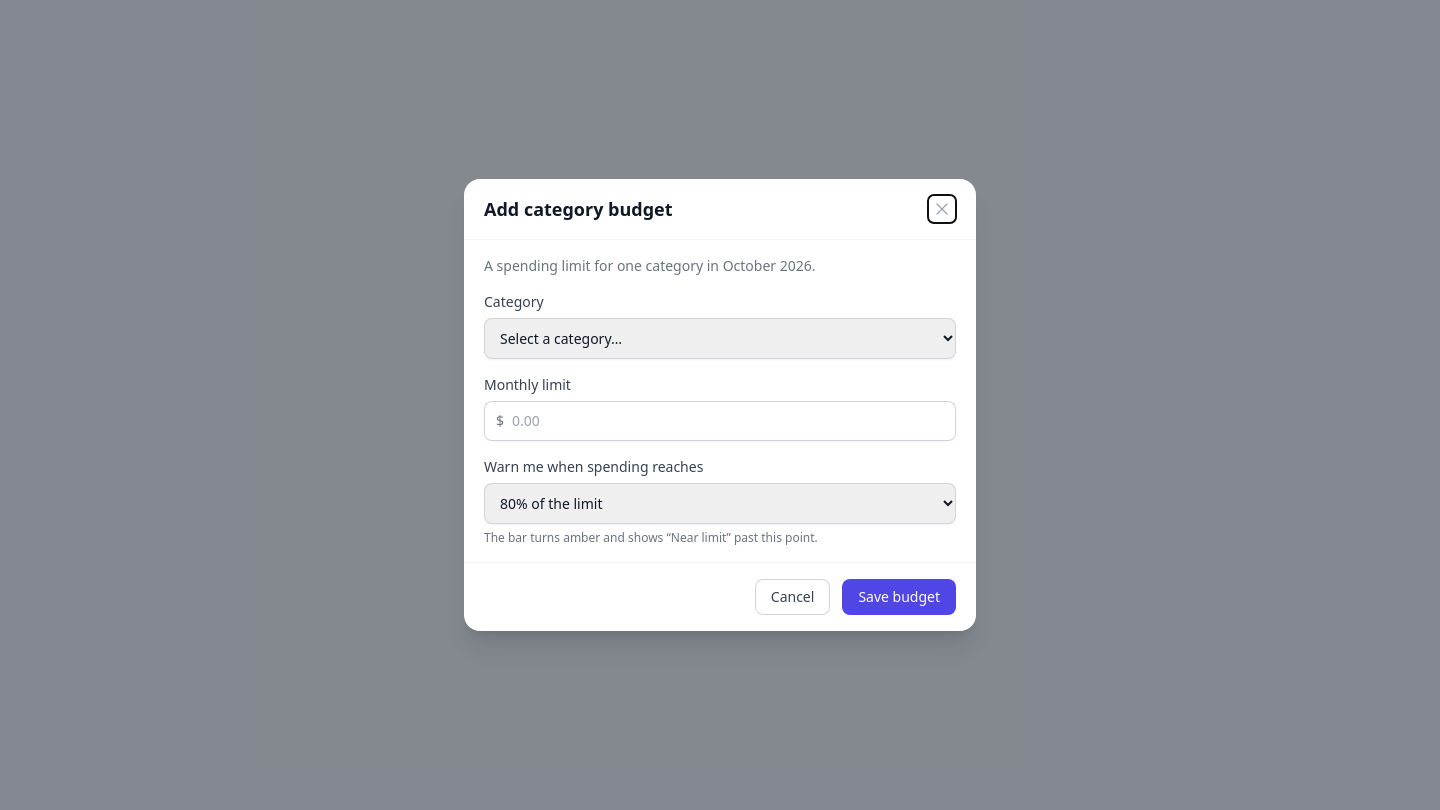
Test: duplicate budget (409) is shown on the field
Select "Groceries" in the dropdown labelled "Category": (720, 338) [484, 318, 956, 359]
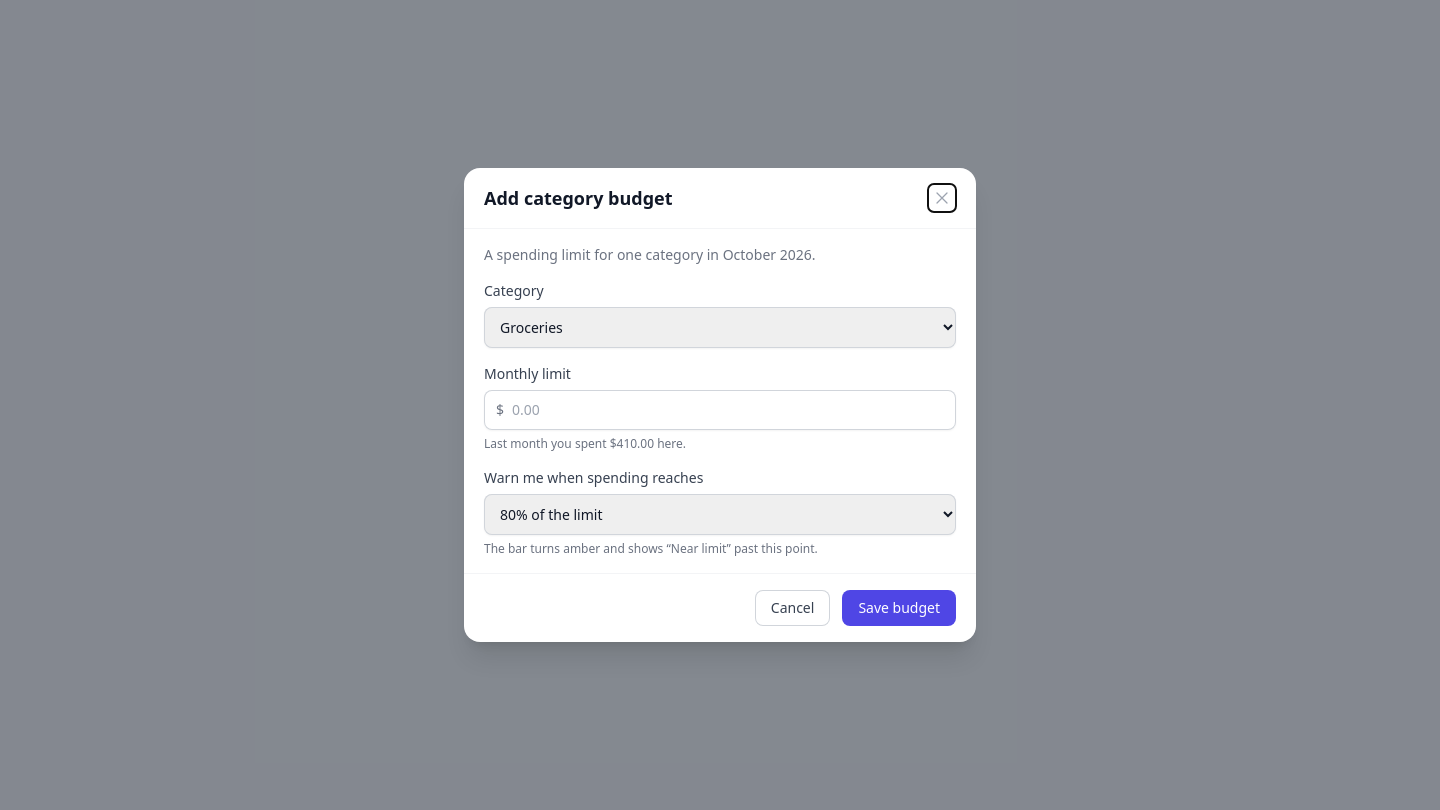
In the number field labelled "Monthly limit": (720, 410) [484, 390, 956, 430], type "400"
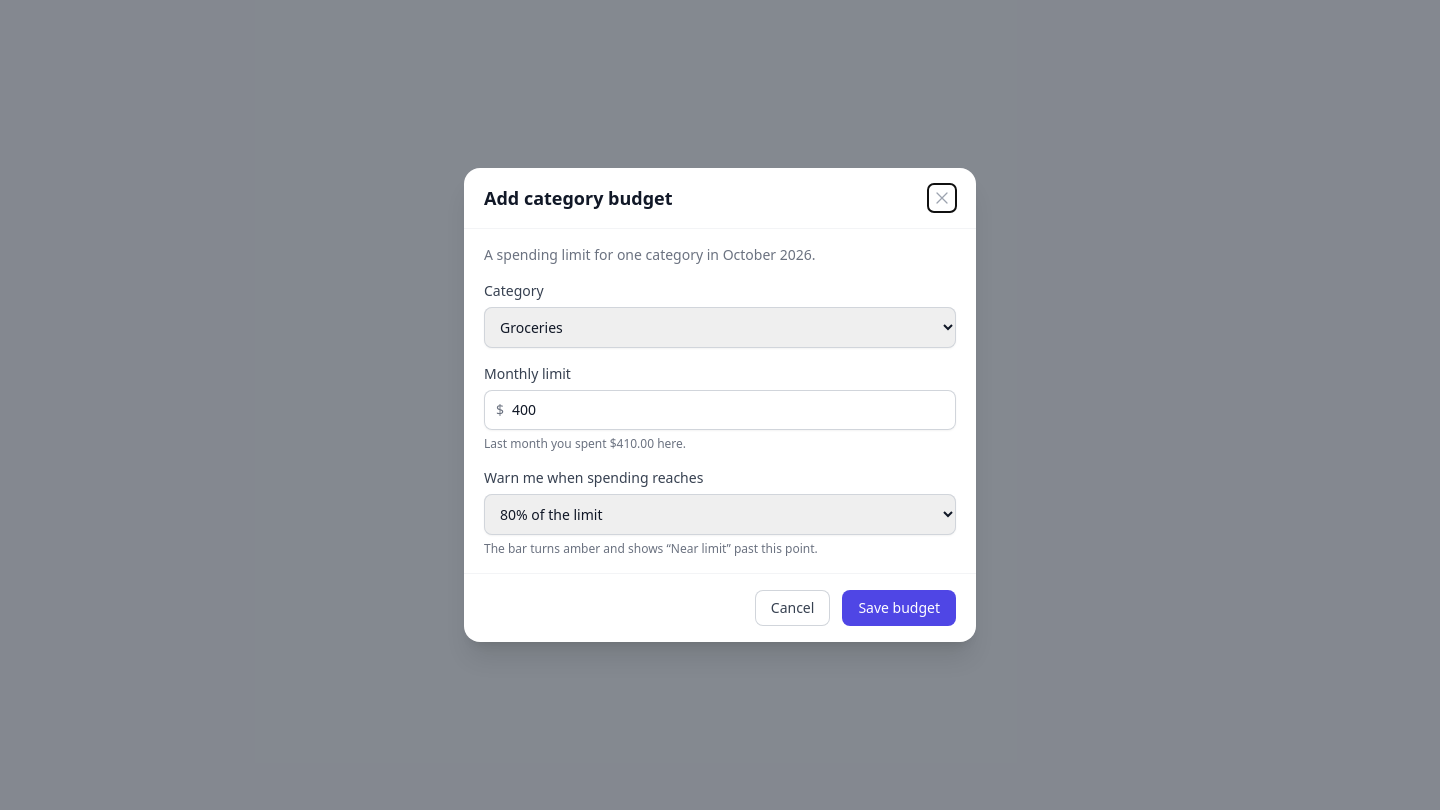
Click the button "Save budget": (899, 608) [842, 590, 956, 626]
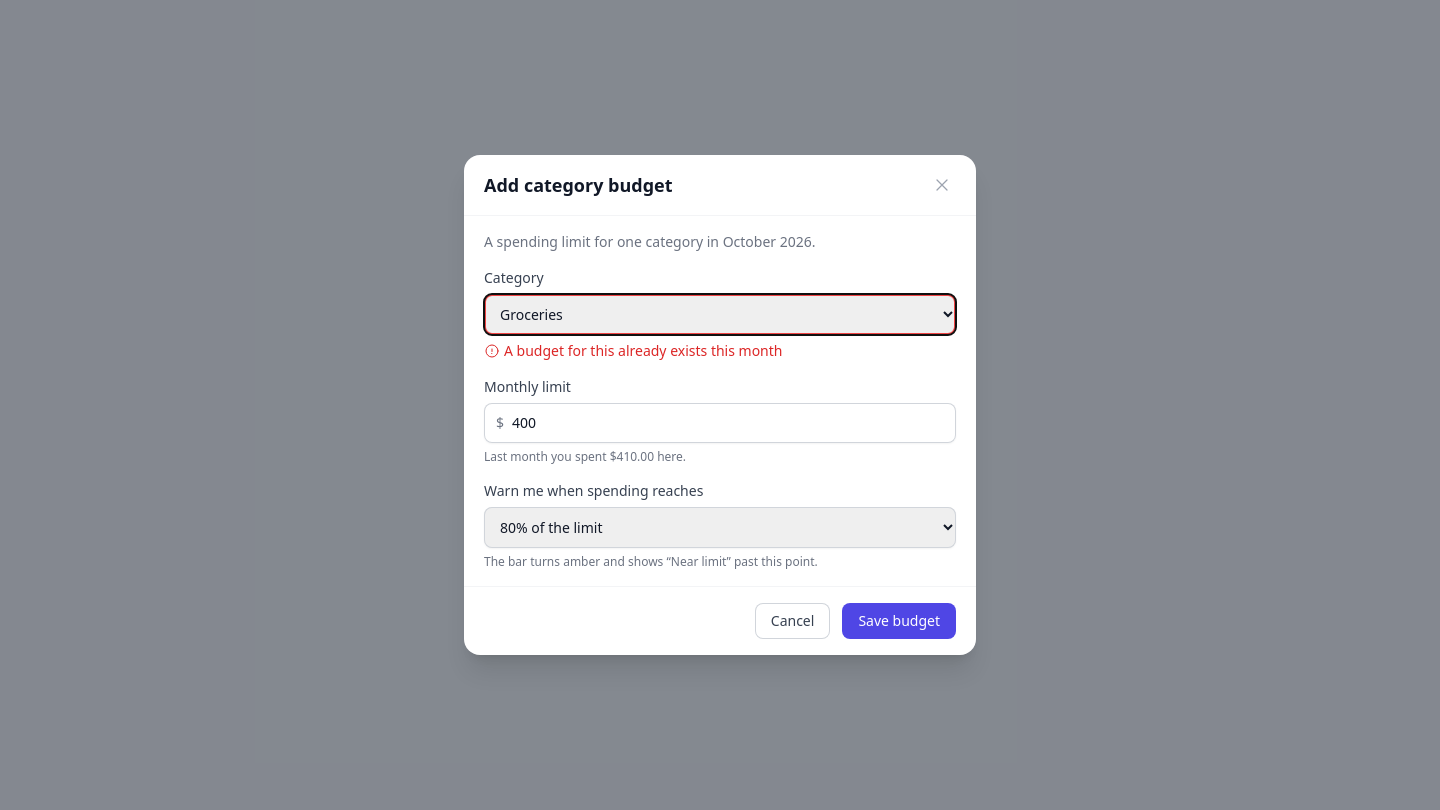
Expected: the text "A budget for this already exists this month" is shown, [484, 341, 782, 360]
